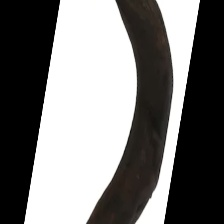banana: (42, 28, 180, 175)
